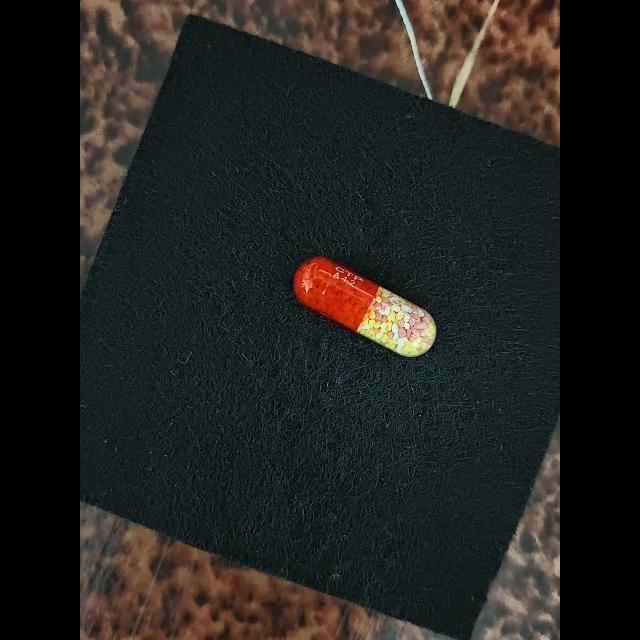Intact Capsule: (293, 256, 437, 357)
